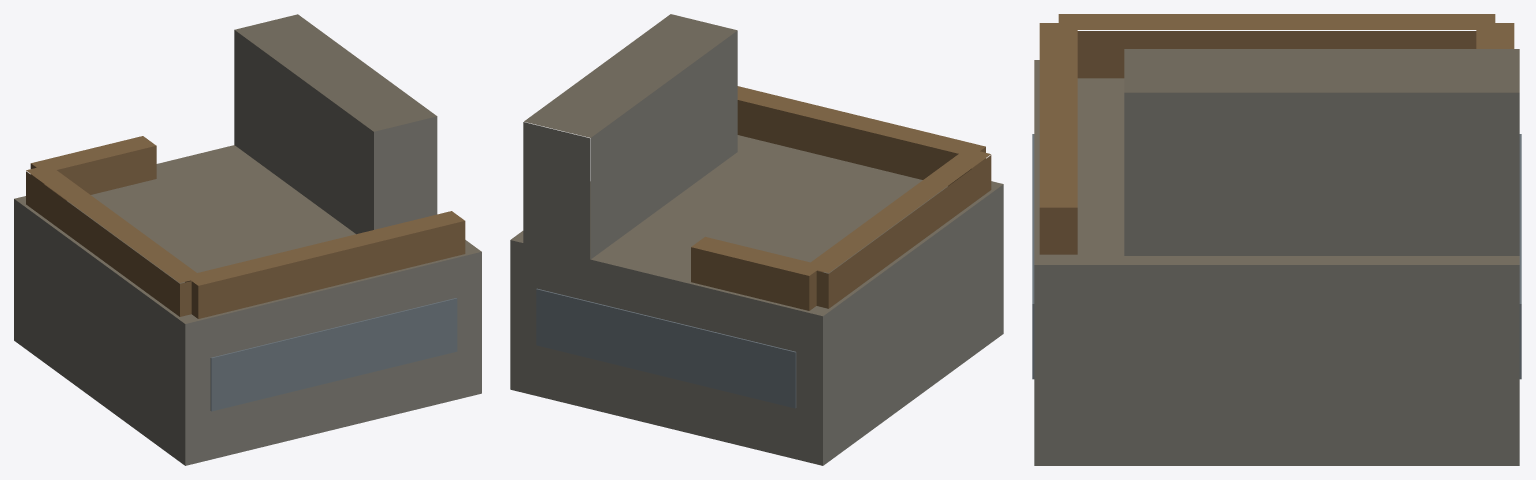
The model's file is mb-pillbox.zfix-v21.lod2.glb.
3 views of the same model, side by side, from view 1: azimuth 30°, elevation 25°; view 2: azimuth 150°, elevation 25°; view 3: azimuth 270°, elevation 25° (orthographic). The views are drawn at different scales.
Visible parts, largest first — view 1: mb-pillbox; view 2: mb-pillbox; view 3: mb-pillbox.
Boxes of the visible parts, x1,y1,x2,y2 form: mb-pillbox: (14,14,481,465); mb-pillbox: (510,14,1003,465); mb-pillbox: (1032,14,1521,465).
Bounding box in the file's own units: 7 × 5.8 × 7.06.
